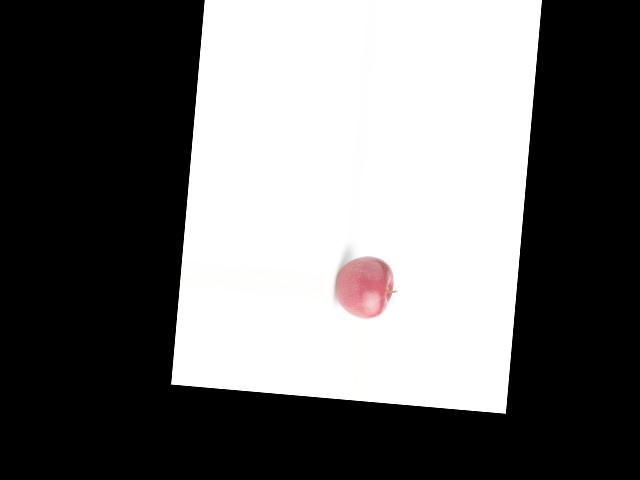apple: (331, 251, 401, 322)
